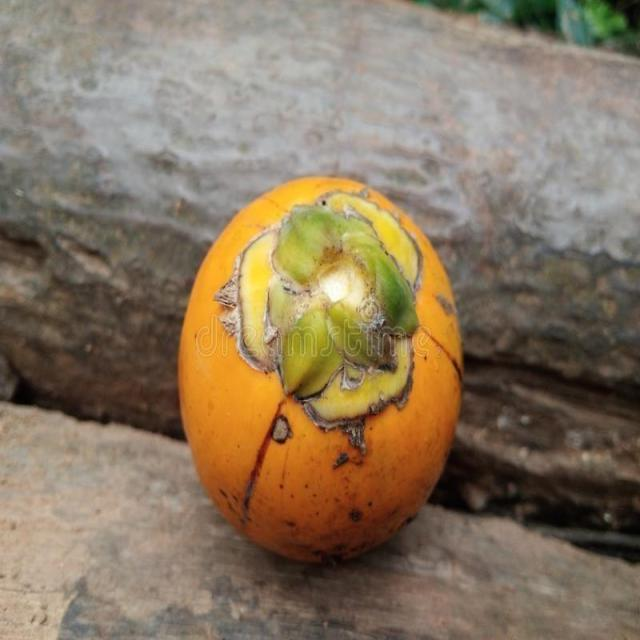good: (177, 177, 463, 569)
